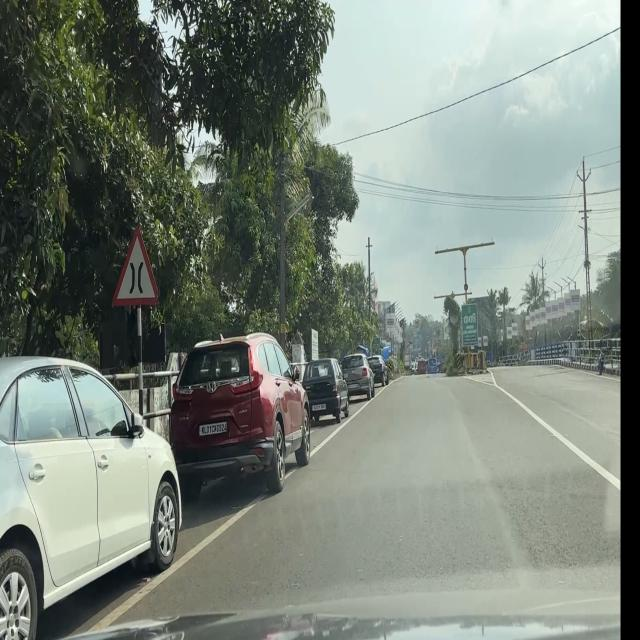NARROW_BRIDGE_AHEAD: (112, 225, 160, 307)
